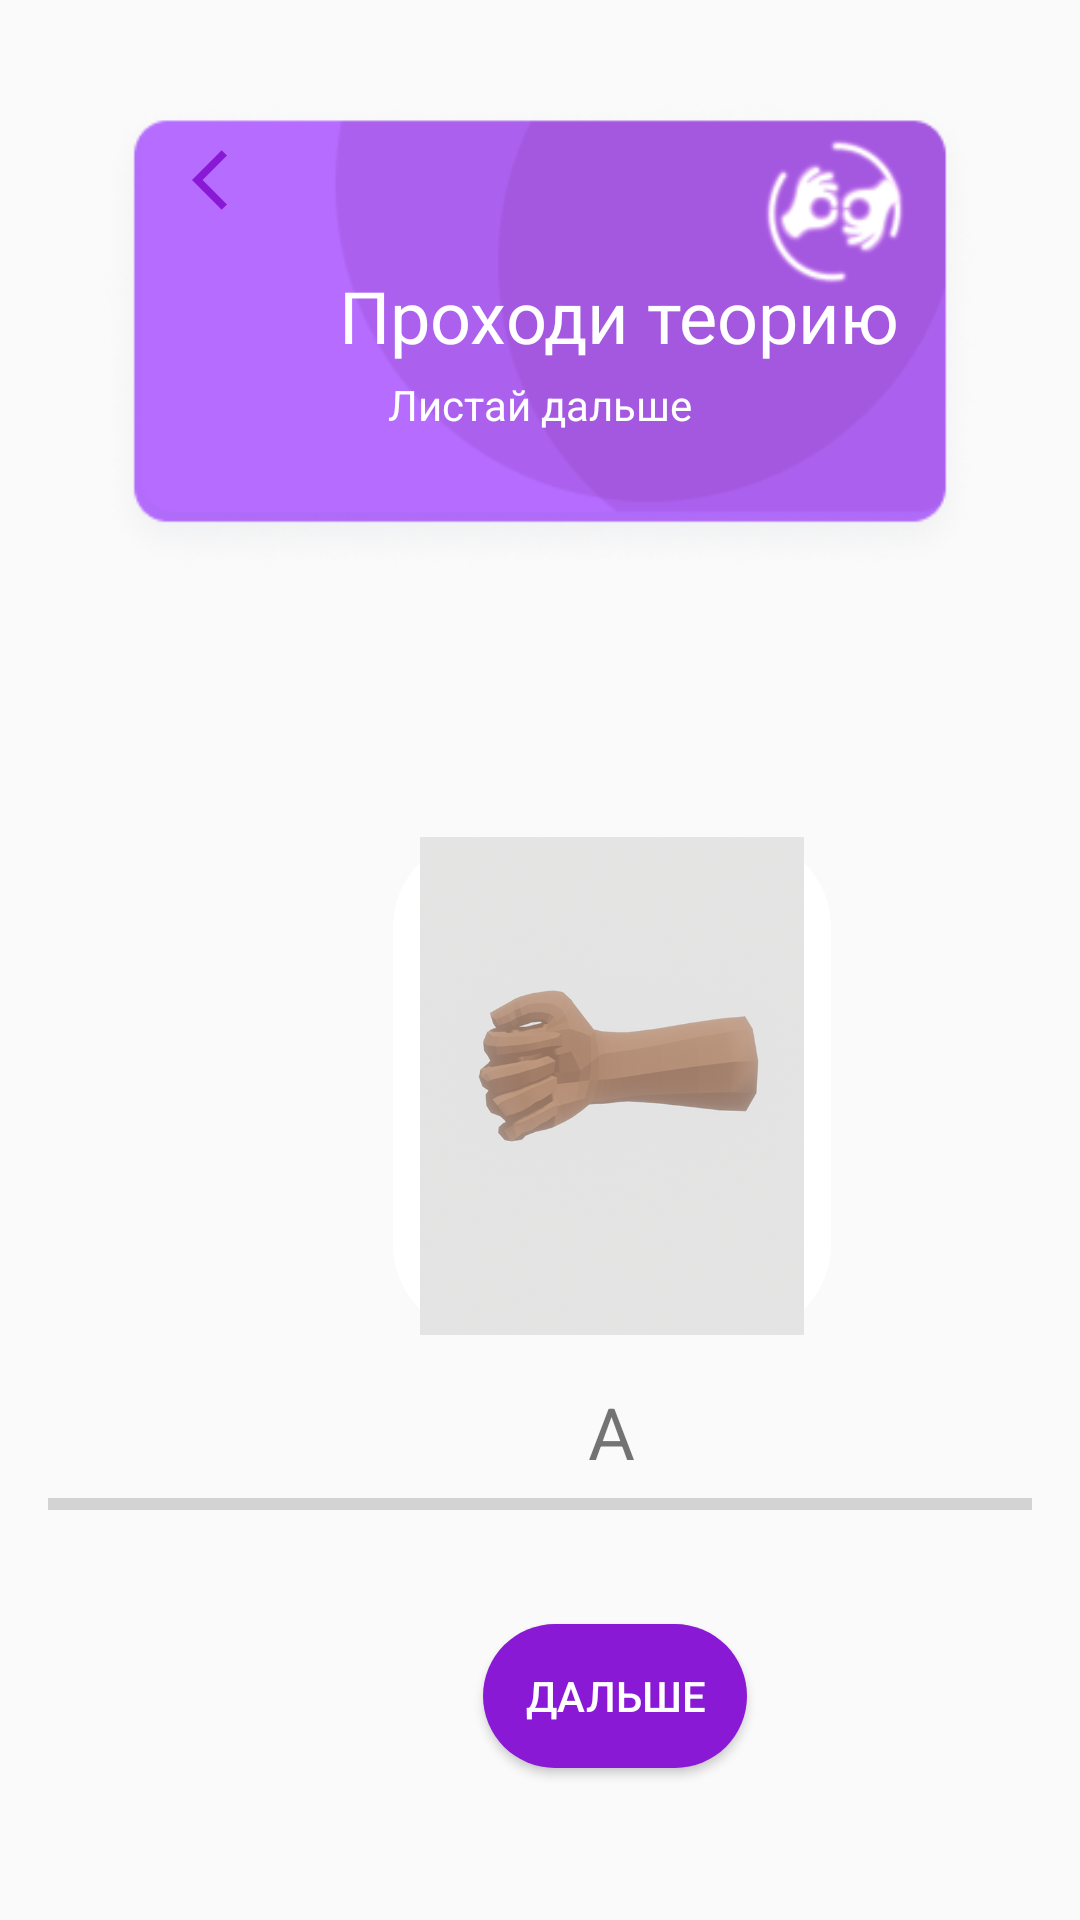

Screen size 1080*1920. Icon name, then its box in pixels as (x1, y1, x2, y2):
back: (192, 150, 227, 210)
